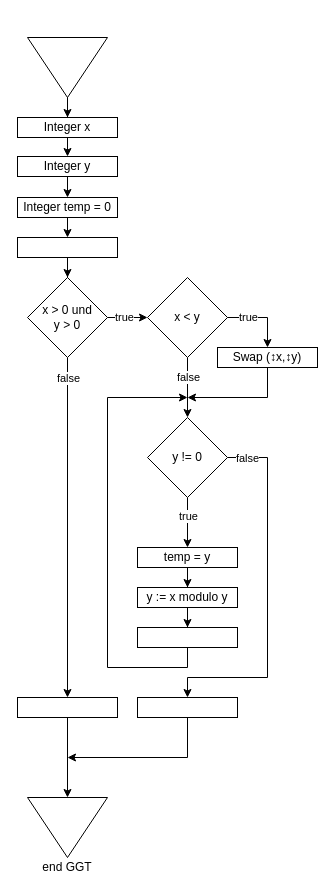
This 335x894 diagram has some shape labels left out. Here are the shapes that lost their labels. From the top down, the centre of each, then its label:
At pixel 67 67: "GGT".
At pixel 67 247: "Integer ggT = 0".
At pixel 187 637: "x := temp".
At pixel 67 707: "ggT = -1".
At pixel 187 707: "ggT = x".
